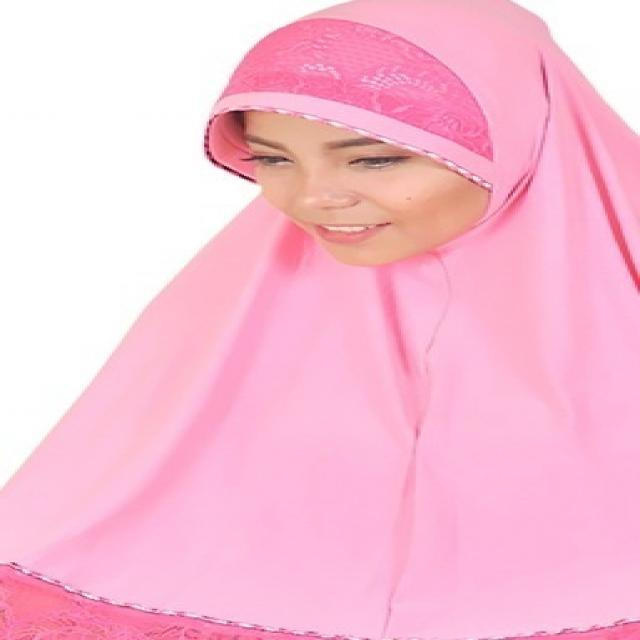head: (189, 2, 563, 277)
